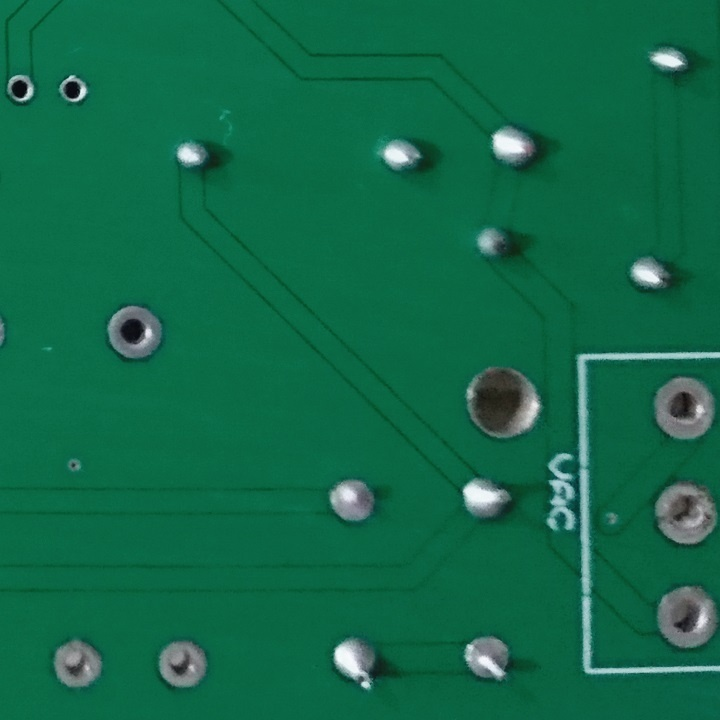F: (651, 580, 720, 655), (646, 372, 716, 443), (651, 482, 720, 549), (99, 302, 165, 365), (459, 632, 523, 690), (52, 632, 109, 694), (326, 475, 380, 530), (153, 635, 206, 690), (1, 70, 40, 110), (57, 72, 91, 108)
